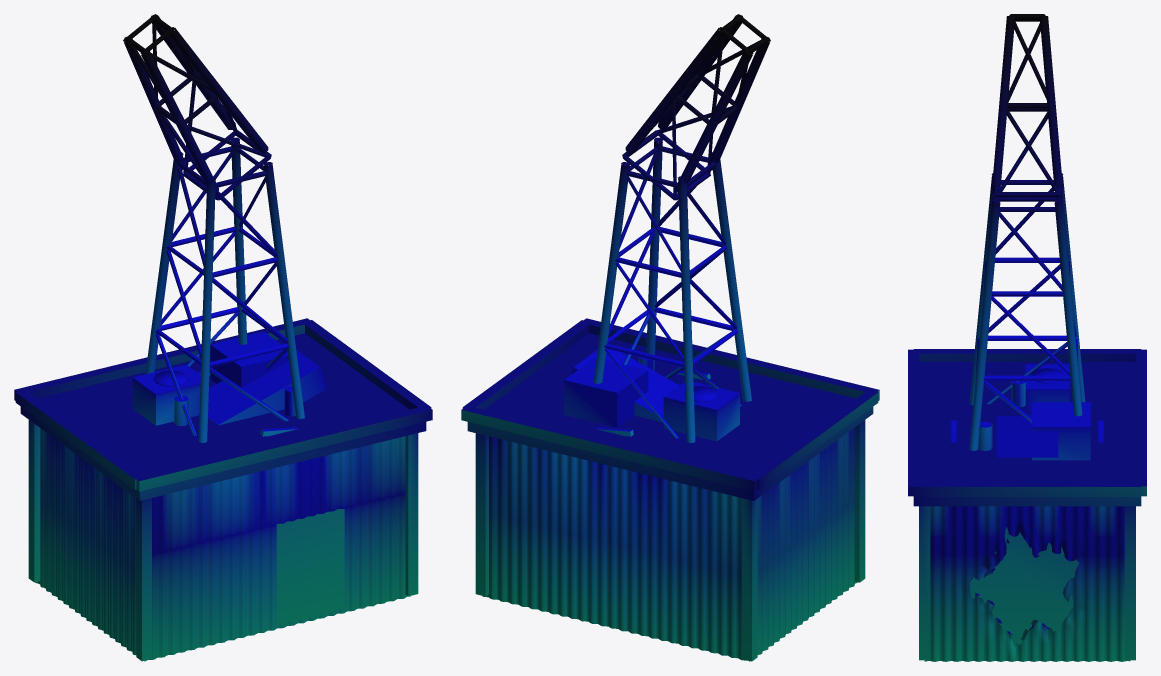
File: relaystation_damaged.glb
3 views of the same model, side by side, from view 1: azimuth 30°, elevation 25°; view 2: azimuth 150°, elevation 25°; view 3: azimuth 270°, elevation 25° (orthographic). The views are drawn at different scales.
Visible parts, largest first — view 1: lod0; view 2: lod0; view 3: lod0.
Boxes of the visible parts, x1,y1,x2,y2 form: lod0: (14,14,432,661); lod0: (461,14,879,661); lod0: (908,14,1146,661).
Size of what is drawn, in the model's own units: 8.9 by 16.72 by 6.5.
